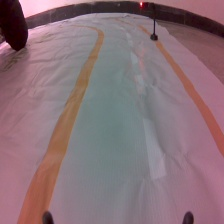red: (137, 1, 159, 44)
